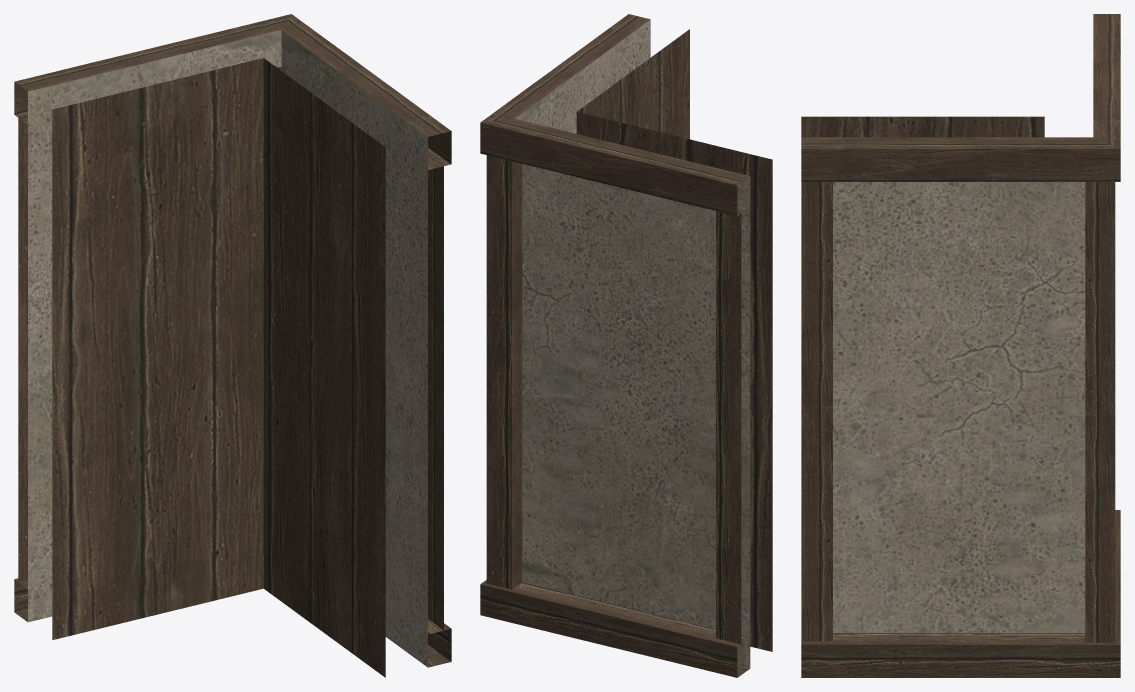
The model's file is ARC1010267.fbx.
3 views of the same model, side by side, from view 1: azimuth 30°, elevation 25°; view 2: azimuth 150°, elevation 25°; view 3: azimuth 270°, elevation 25° (orthographic). The views are drawn at different scales.
Visible parts, largest first — view 1: smARC1010267; view 2: smARC1010267; view 3: smARC1010267.
Part boxes in pixels (x1,y1,x2,y2): smARC1010267: (14, 14, 451, 677); smARC1010267: (480, 14, 772, 677); smARC1010267: (801, 14, 1120, 677).
Bounding box in the file's own units: 147 × 268 × 147.
1 material, 1 textured.
